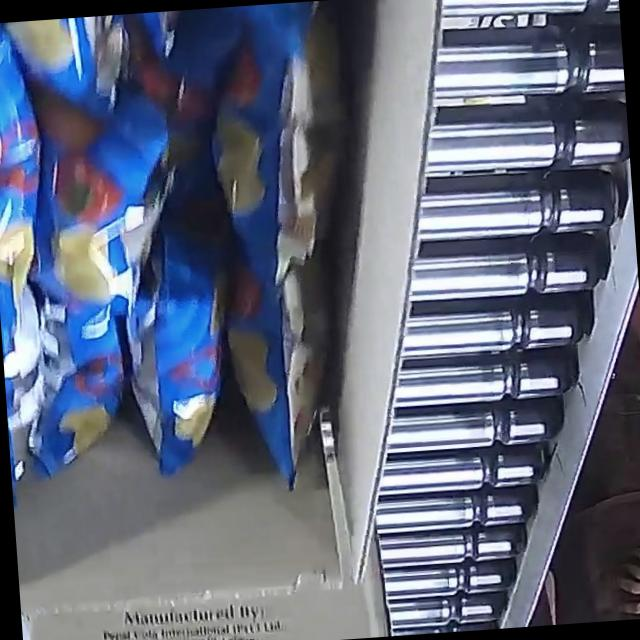paprika: (0, 0, 360, 512)
